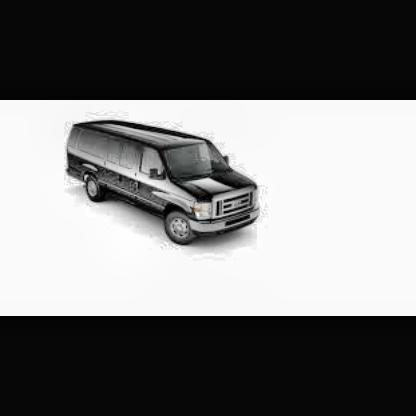Ford E-Series Wagon Van 2012: (65, 113, 264, 249)
